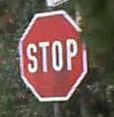stop: (17, 10, 86, 101)
